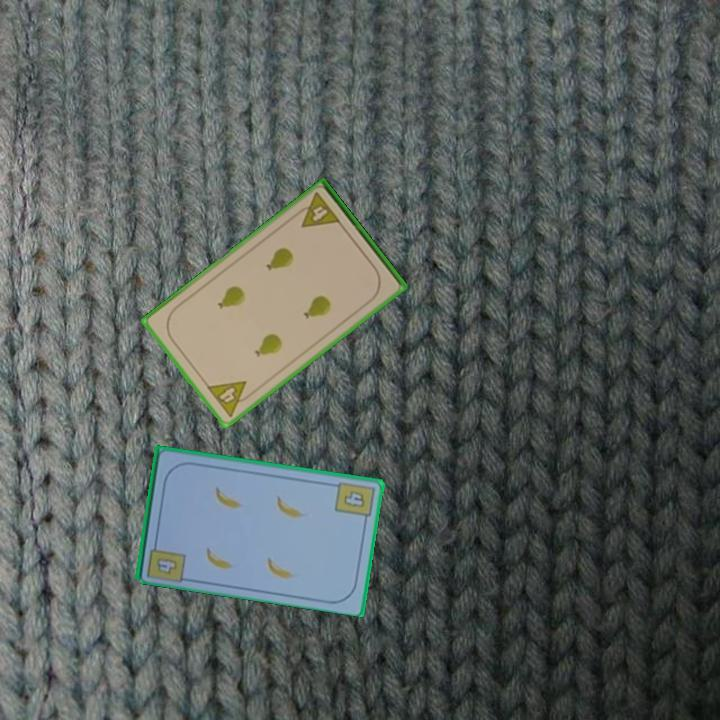4b: (331, 478, 377, 526), (153, 553, 181, 577)
4p: (203, 377, 257, 420), (291, 189, 343, 231)
